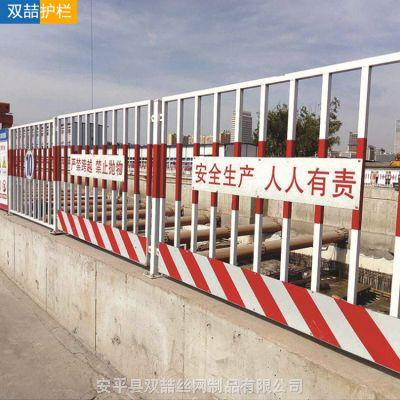sign: (160, 64, 398, 345), (2, 100, 158, 262)
